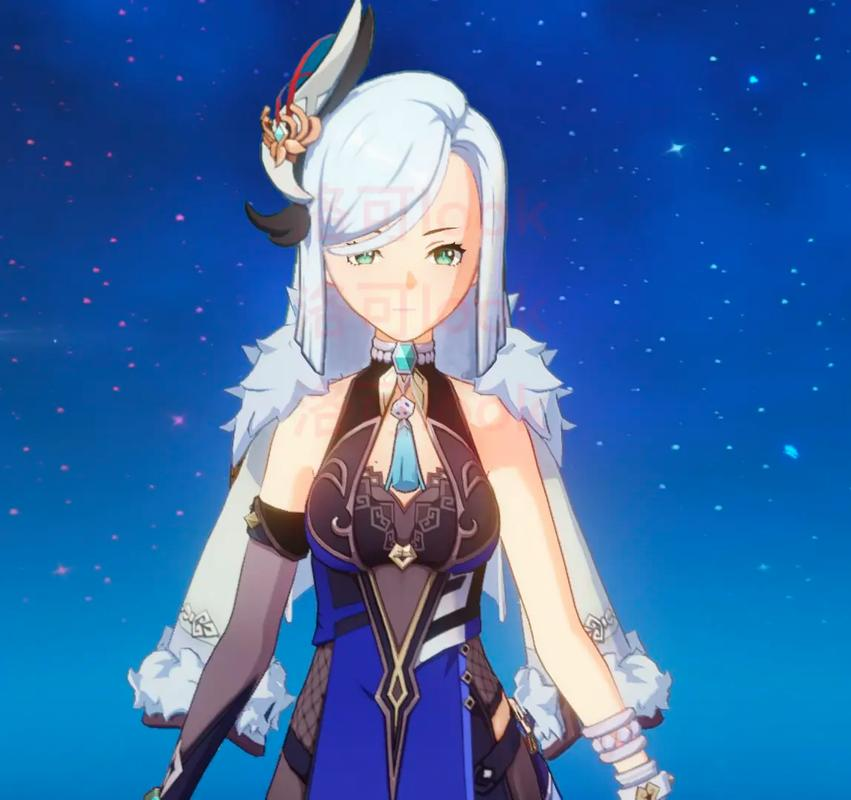夜兰: (151, 374, 687, 800)
